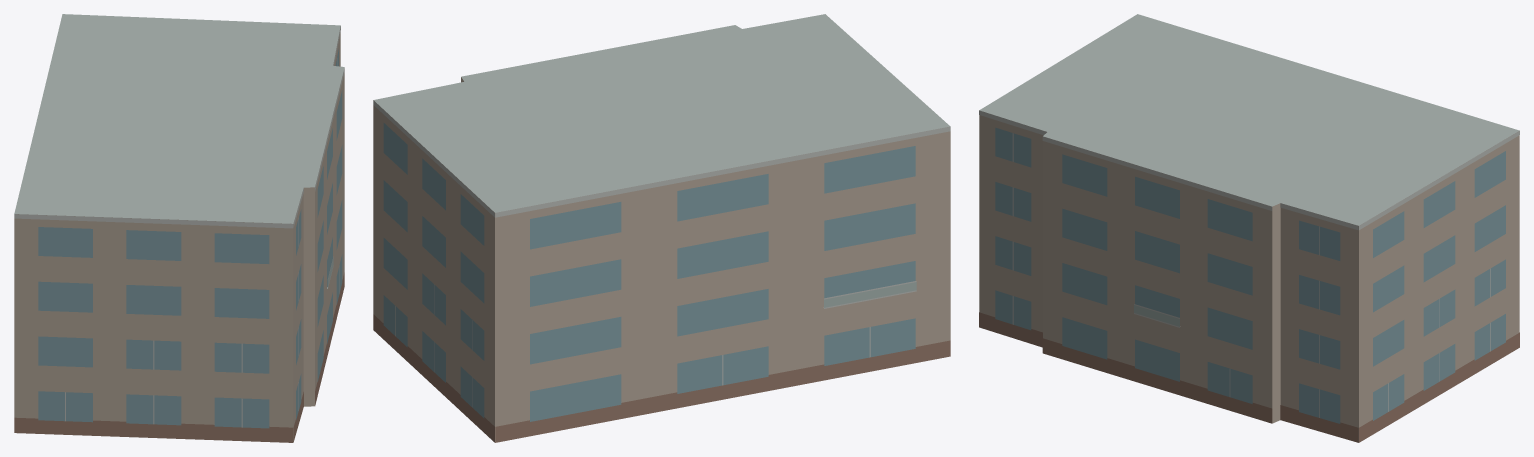
Rendered from survey-upis-32911835.glb.
3 renders of one model, left to right at view 1: azimuth 30°, elevation 25°; view 2: azimuth 150°, elevation 25°; view 3: azimuth 270°, elevation 25°, orthographic. The views are drawn at different scales.
Parts seen in each view (by area): view 1: survey-upis-32911835.tmp; view 2: survey-upis-32911835.tmp; view 3: survey-upis-32911835.tmp.
Part boxes in pixels (left/top/right/bottom): survey-upis-32911835.tmp: left=14, top=14, right=344, bottom=442; survey-upis-32911835.tmp: left=373, top=14, right=950, bottom=442; survey-upis-32911835.tmp: left=979, top=14, right=1519, bottom=442.
Size of the model in its own units: 24.29 by 11.6 by 26.19.
